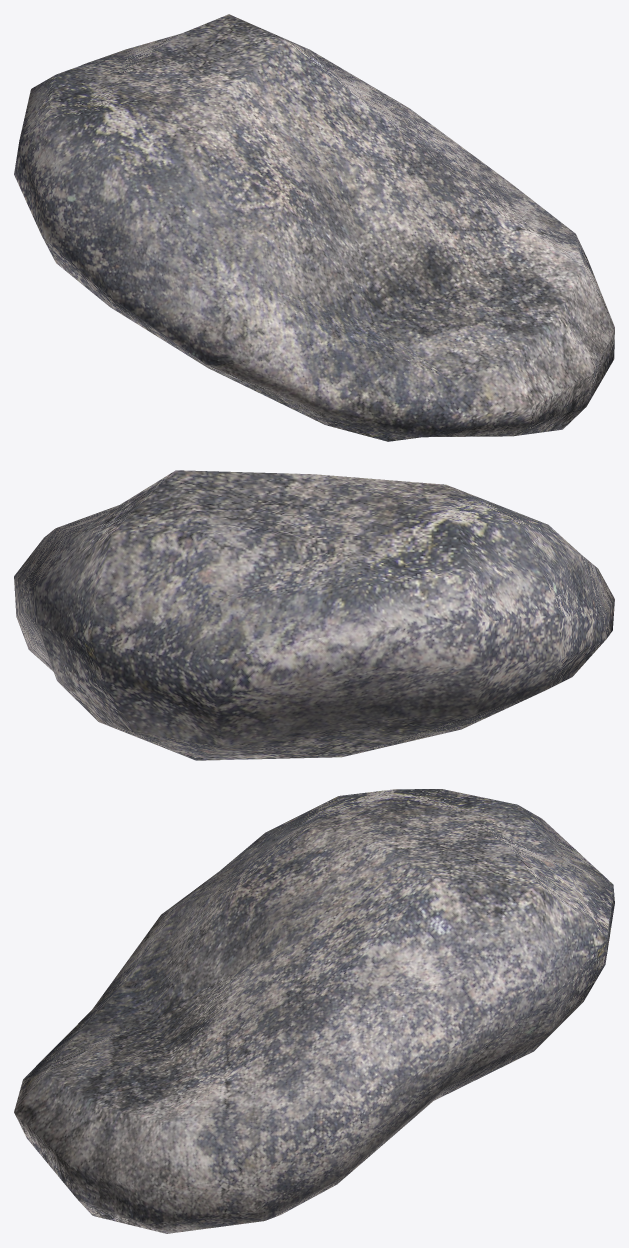
File: Stone_4.obj
The picture shows the model from 3 angles, top to bottom: view 1: azimuth 30°, elevation 25°; view 2: azimuth 150°, elevation 25°; view 3: azimuth 270°, elevation 25°; orthographic projection. The views are drawn at different scales.
Parts seen in each view (by area): view 1: Stone_4_Stone.003; view 2: Stone_4_Stone.003; view 3: Stone_4_Stone.003.
Part boxes in pixels (x1=…): Stone_4_Stone.003: x1=14, y1=14, x2=614, y2=441; Stone_4_Stone.003: x1=14, y1=470, x2=614, y2=760; Stone_4_Stone.003: x1=14, y1=789, x2=614, y2=1233.
Bounding box in the file's own units: 0.482 × 0.283 × 0.5253.
1 material, 1 textured.
